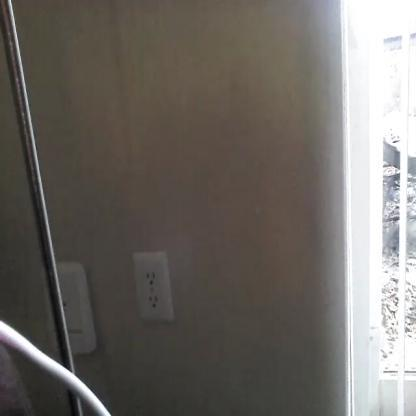OUTLET: (132, 248, 174, 326)
